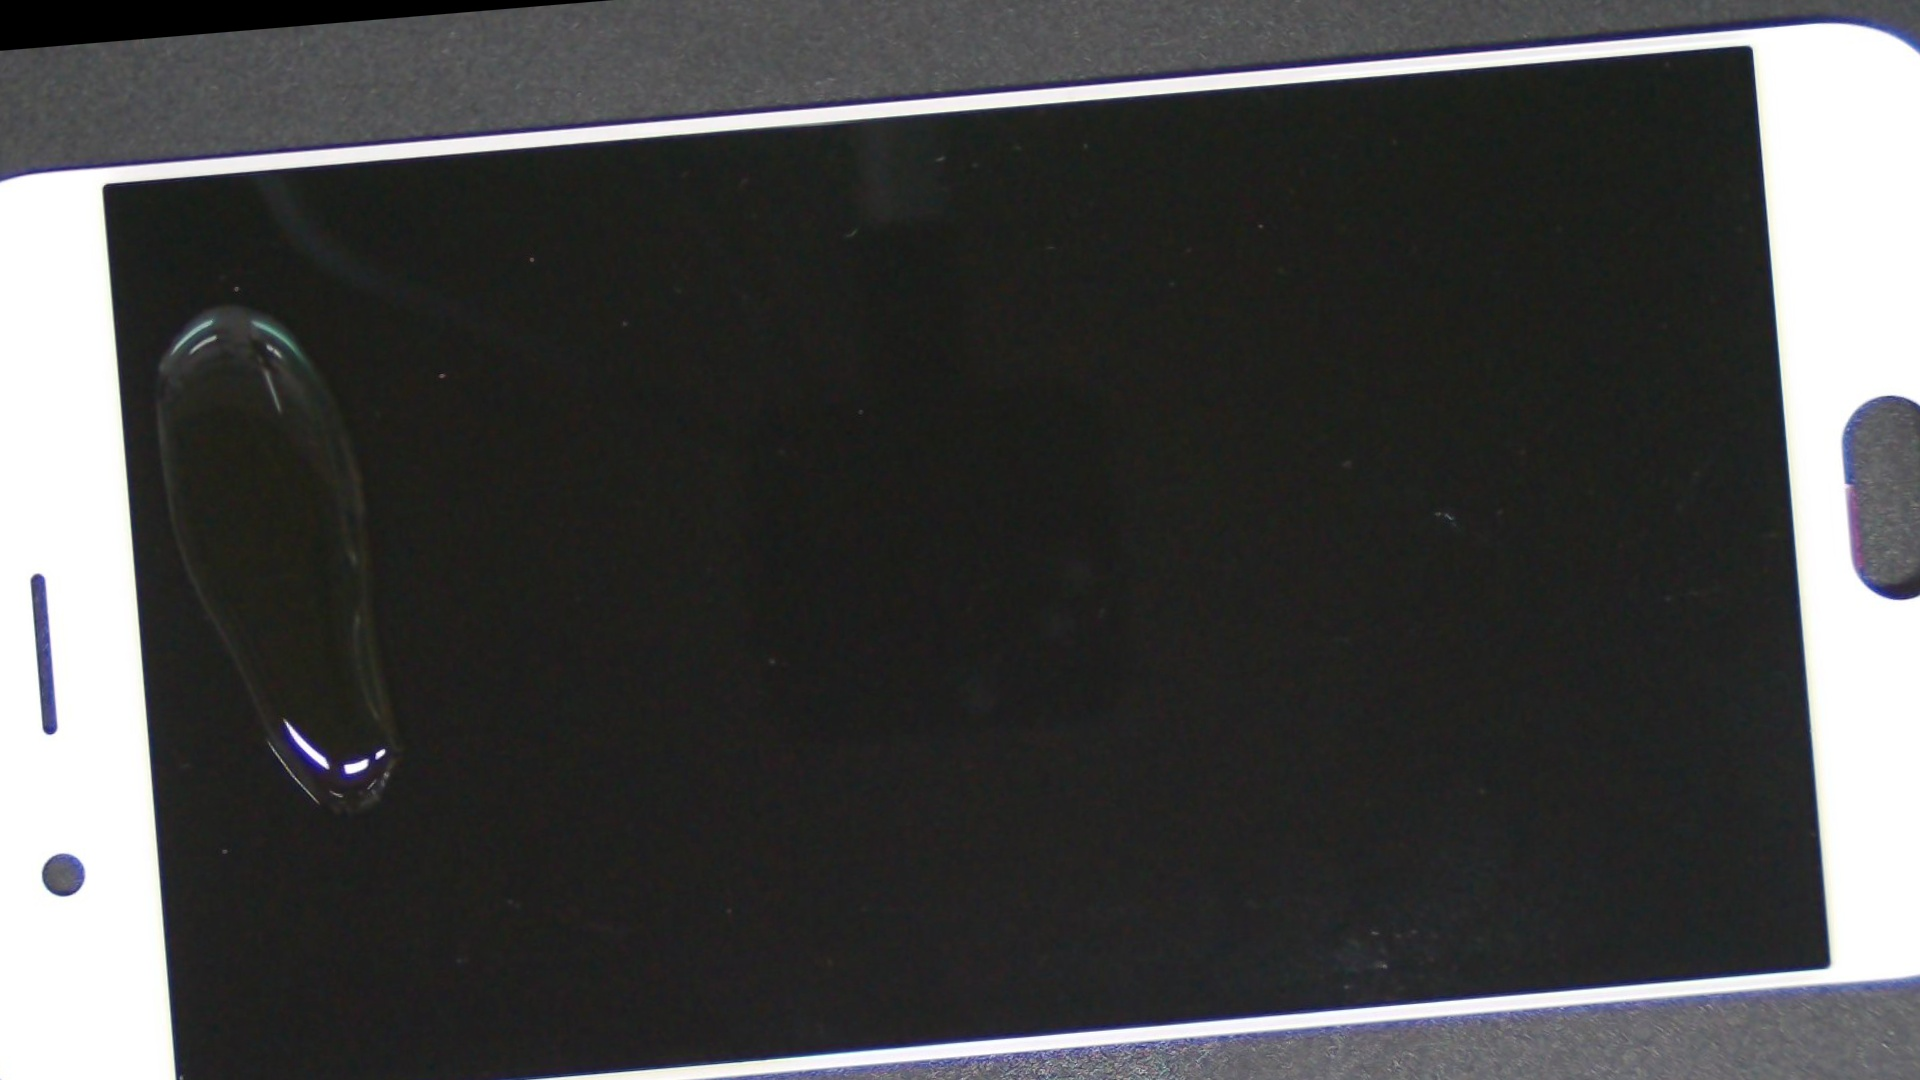oil: (11, 153, 434, 458)
